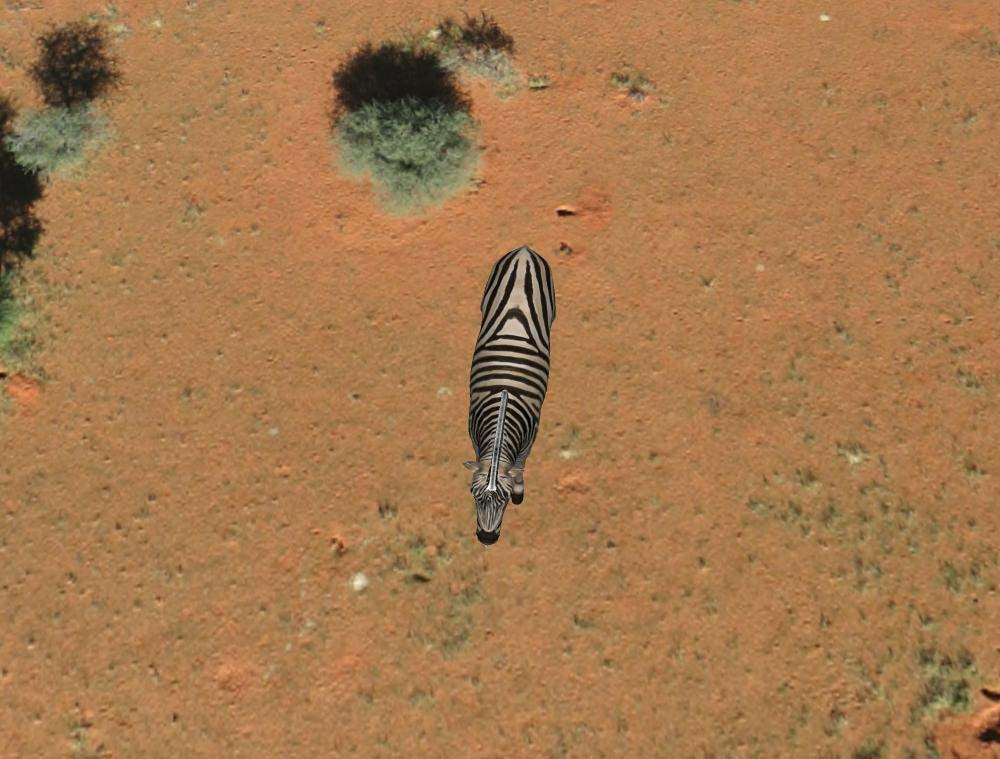zebra: (467, 246, 556, 548)
